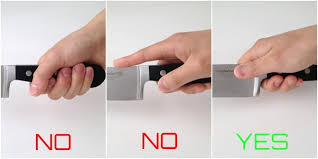knife: (107, 53, 209, 107), (213, 53, 314, 104), (1, 55, 104, 103)
